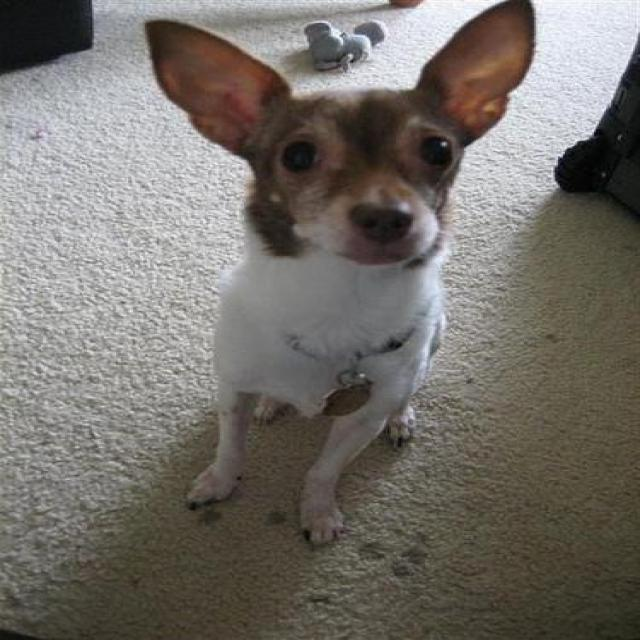toy_terrier: (138, 0, 540, 548)
